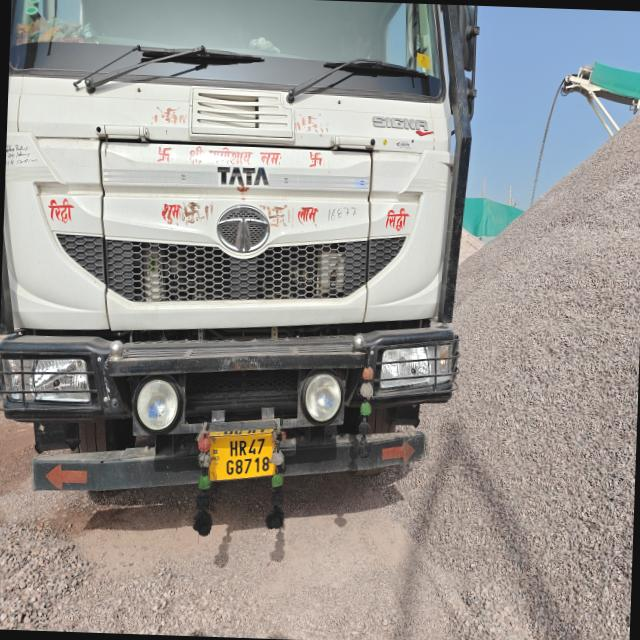license_plate: (209, 430, 274, 480)
